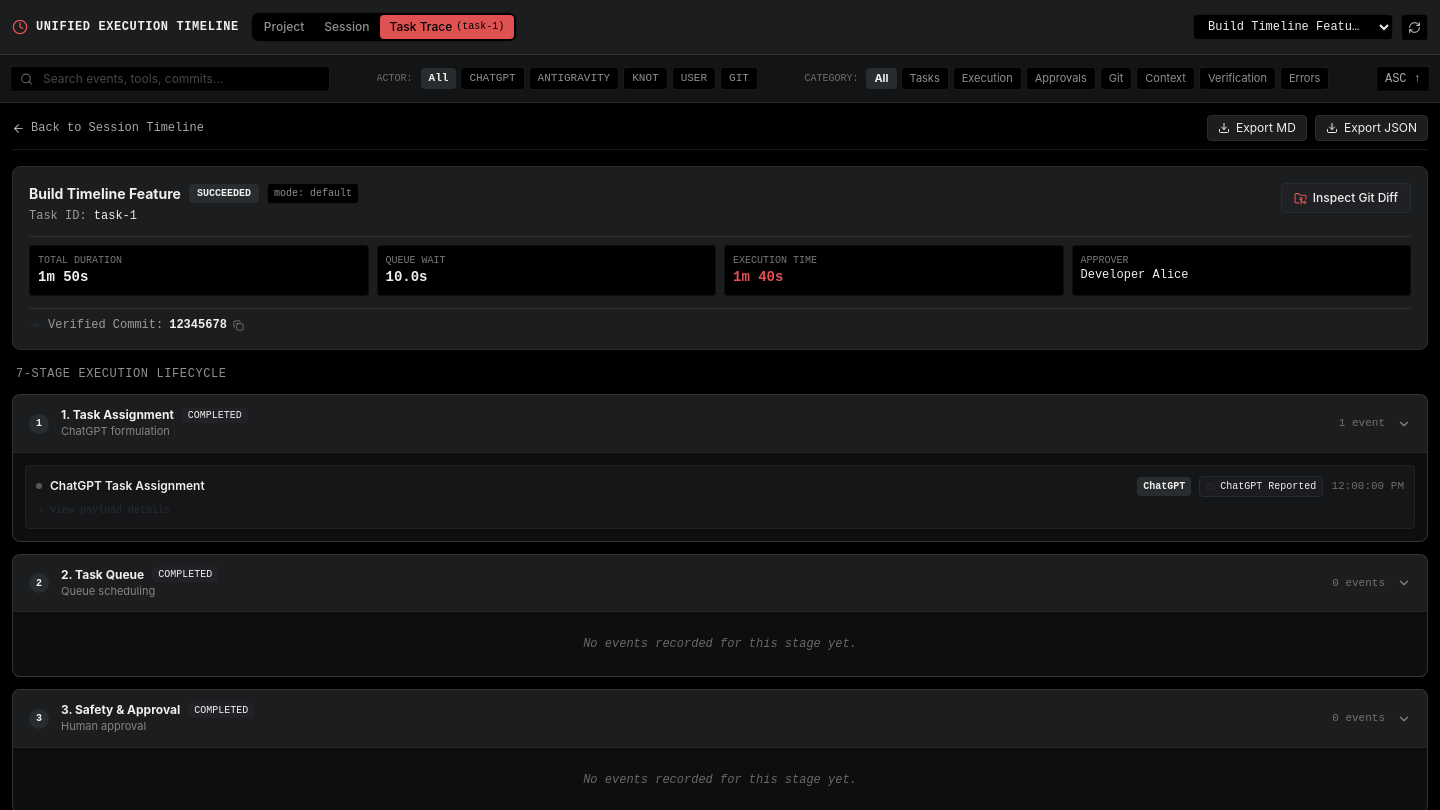
Test: UnifiedTimelinePanel UI Component › opens Export modal when Export MD button is clicked
The width and height of the screenshot is (1440, 810).
Expected: the text "Export MD" is shown, x1=1236 y1=120 x2=1296 y2=136
Click the button "Export MD" at (1257,128), box x1=1207 y1=115 x2=1307 y2=141
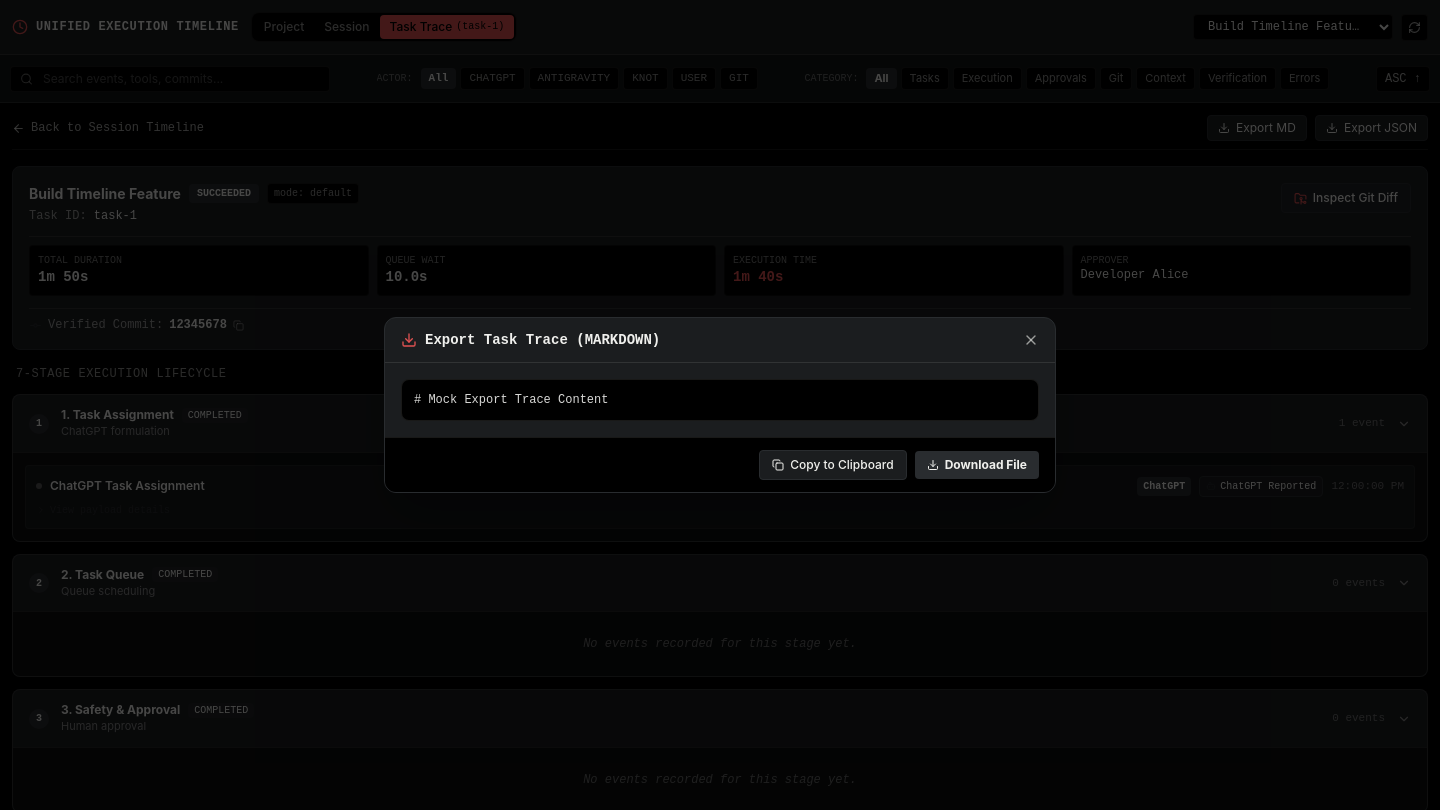
Now the heading "Export Task Trace (MARKDOWN)" is shown, box x1=425 y1=330 x2=660 y2=350
Now the text "# Mock Export Trace Content" is shown, box x1=401 y1=379 x2=1039 y2=421
Now the text "Copy to Clipboard" is shown, box x1=790 y1=457 x2=894 y2=473
